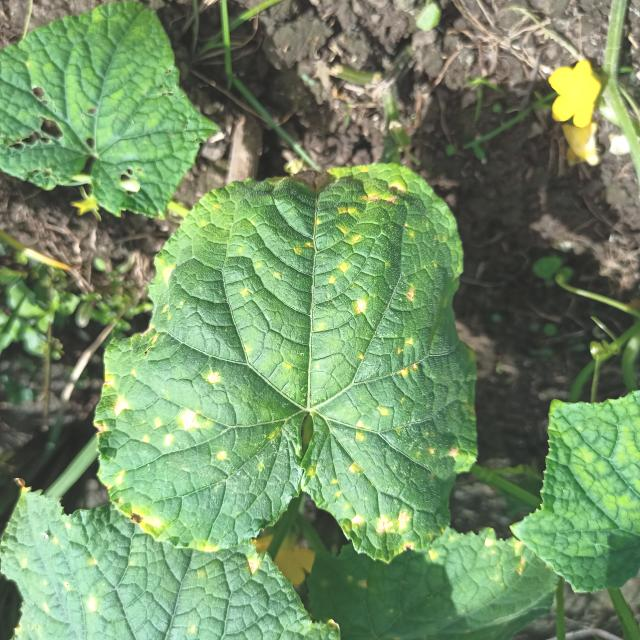disease_cucumber: (94, 165, 462, 559), (23, 519, 100, 614)
